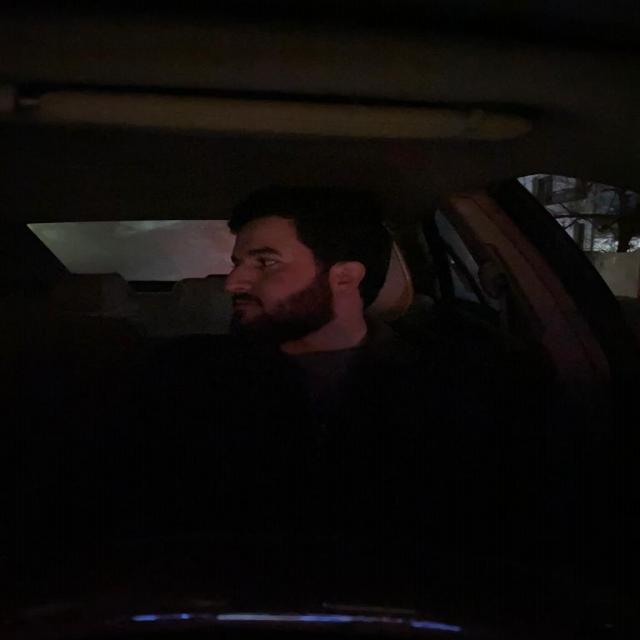LeftRight: (214, 181, 410, 355)
